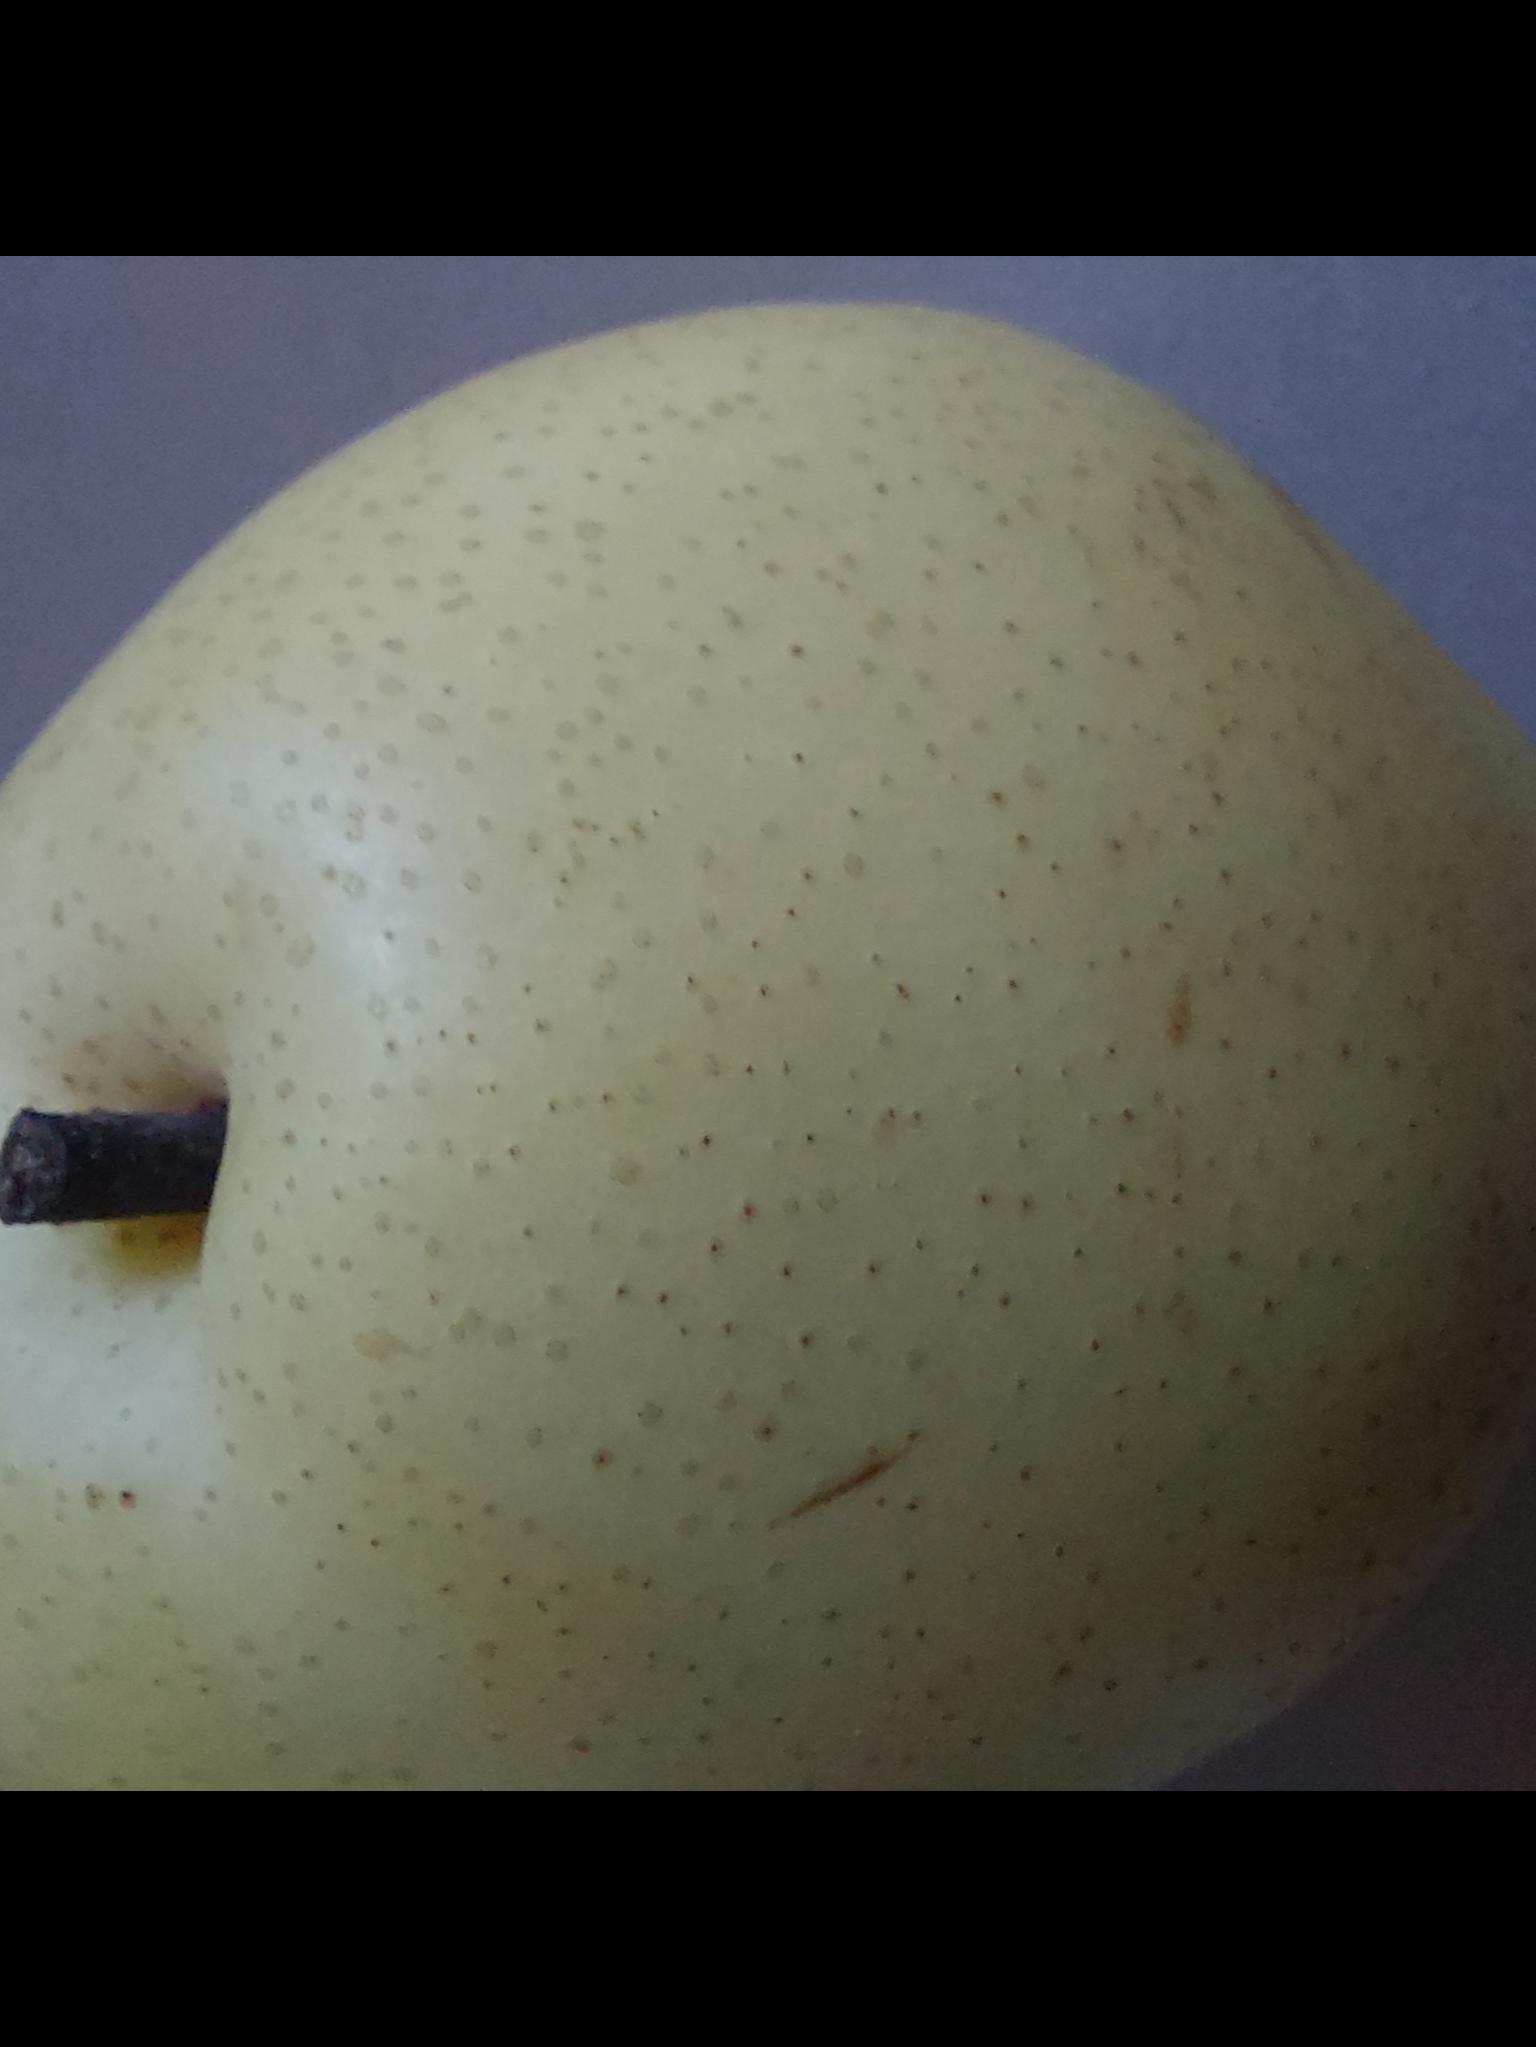Good Pear: (0, 298, 1536, 1784)
